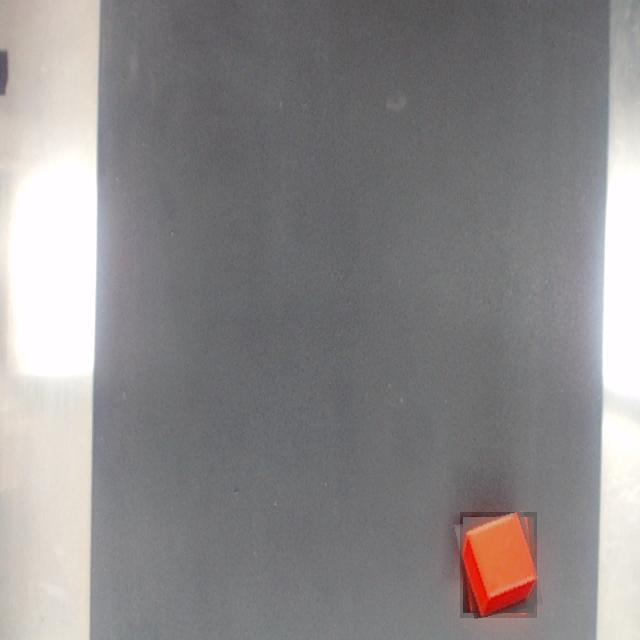Rojo: (460, 512, 537, 618)
